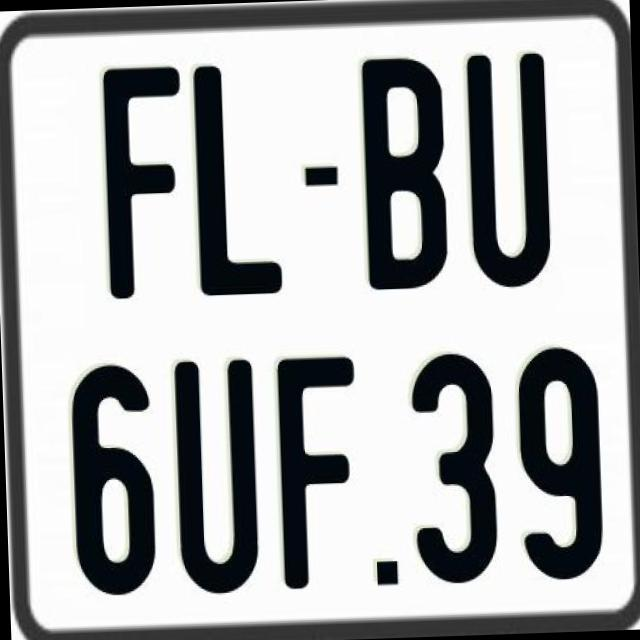3: (411, 352, 499, 592)
6: (65, 360, 159, 598)
9: (516, 340, 604, 584)
B: (361, 52, 448, 288)
F: (100, 62, 187, 304), (273, 354, 359, 595)
L: (190, 61, 284, 300)
U: (466, 51, 560, 296), (174, 354, 260, 592)
